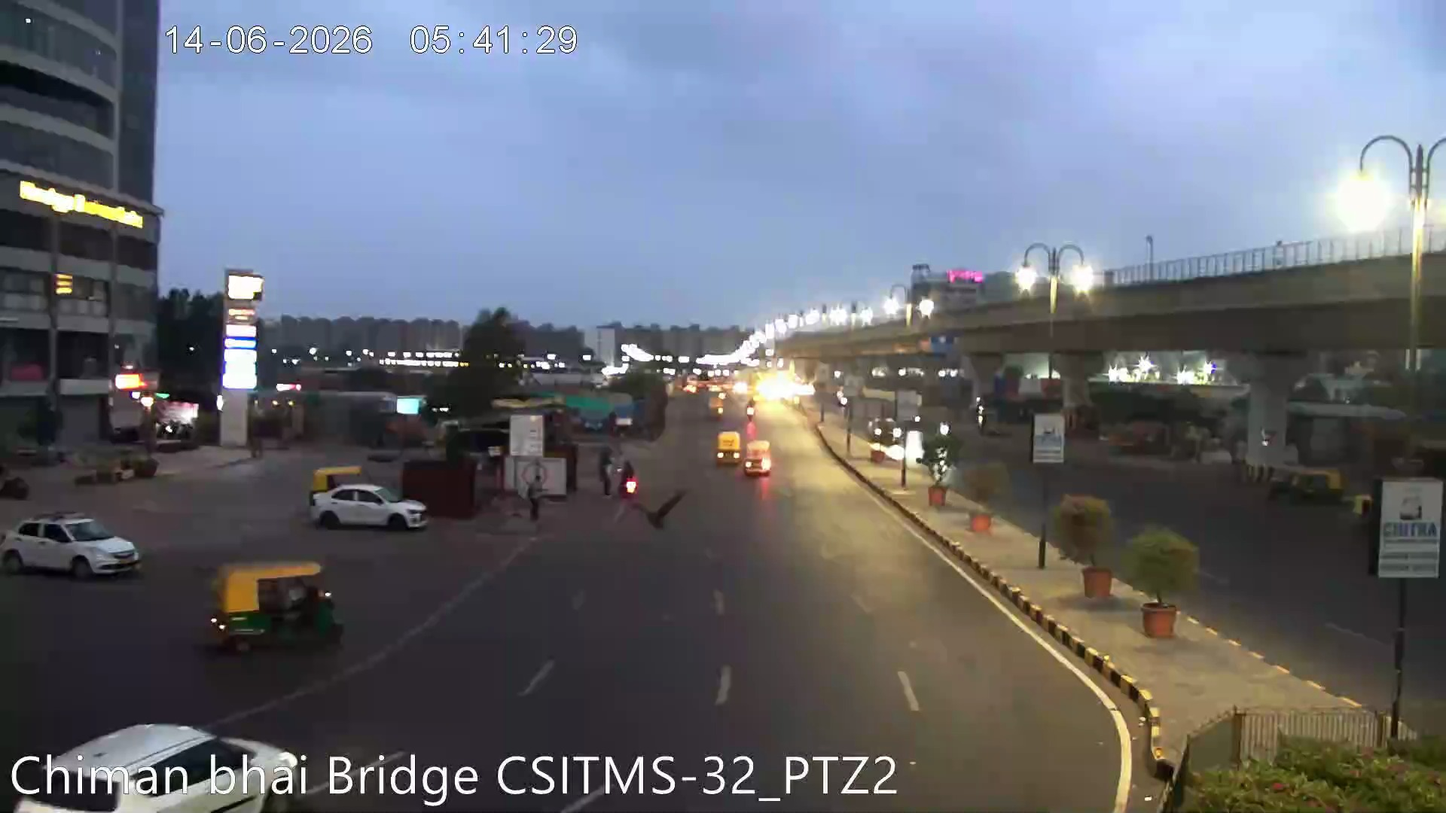auto_rickshaw: (201, 552, 346, 656), (1274, 463, 1347, 511), (721, 429, 759, 469), (742, 436, 776, 477), (712, 428, 742, 465), (706, 386, 727, 418)
car: (43, 722, 312, 797), (200, 552, 346, 657), (0, 504, 147, 583), (308, 476, 431, 535)
pedestrian: (522, 469, 548, 530), (596, 449, 615, 499)
two_wheeler: (617, 454, 643, 500)
